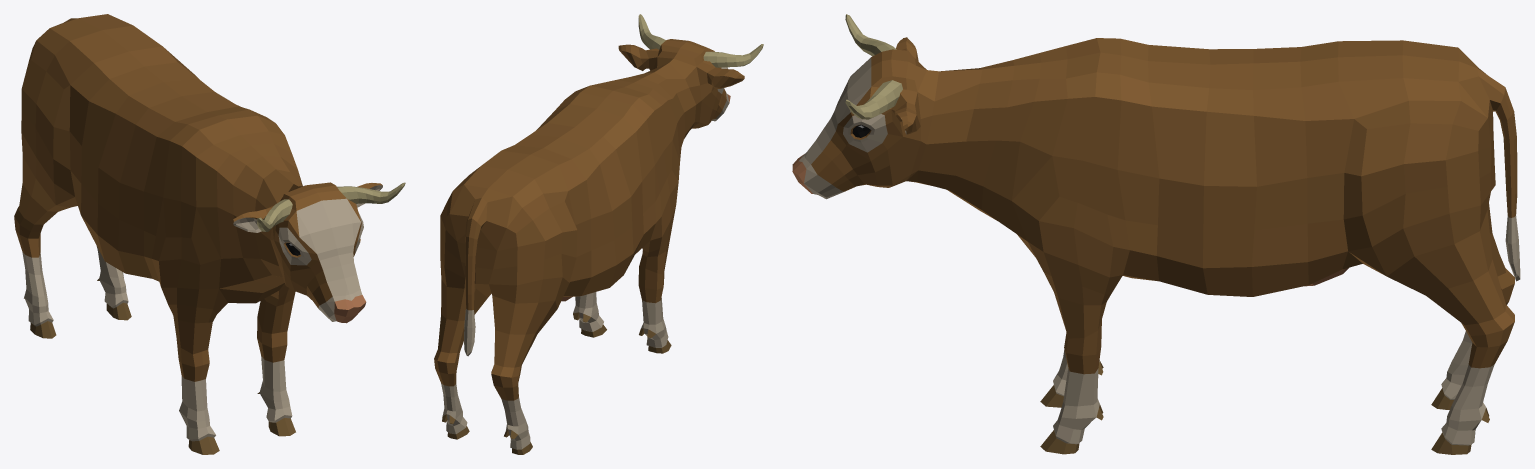
Rendered from farm.glb.
3 renders of one model, left to right at view 1: azimuth 30°, elevation 25°; view 2: azimuth 150°, elevation 25°; view 3: azimuth 270°, elevation 25°, orthographic. The views are drawn at different scales.
Parts seen in each view (by area): view 1: Cow; view 2: Cow; view 3: Cow.
Part boxes in pixels (x1,y1,x2,y2): Cow: [14, 14, 405, 454]; Cow: [434, 14, 763, 454]; Cow: [792, 14, 1520, 454].
Size of the model in its own units: 2.31 by 4.59 by 8.07.
